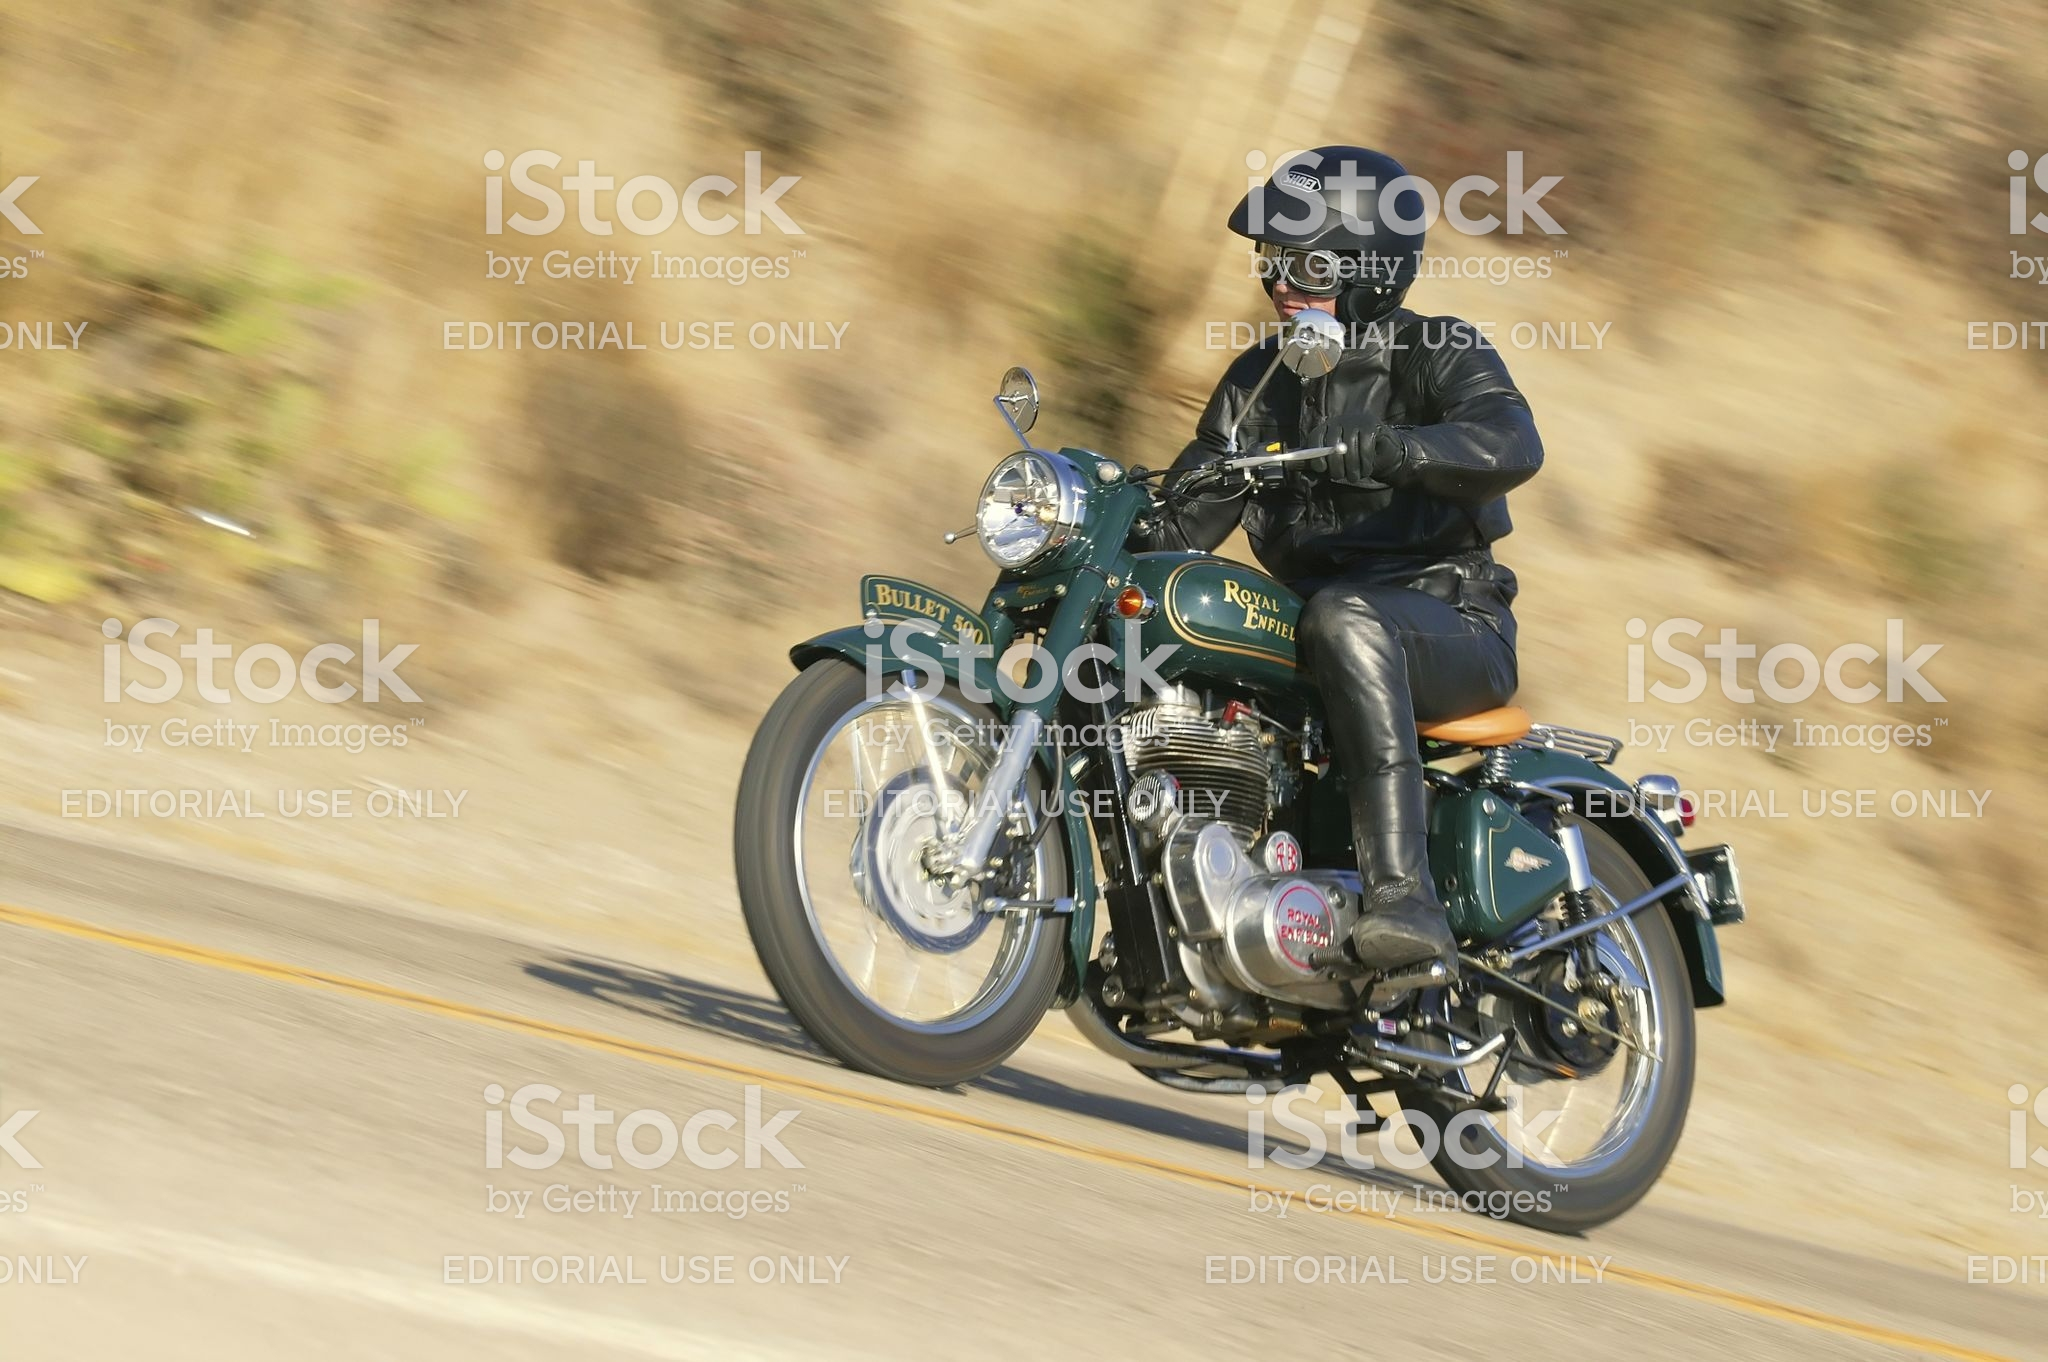helmet: (1229, 123, 1427, 331)
